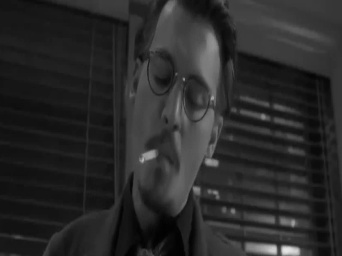smoke: (138, 146, 162, 164)
